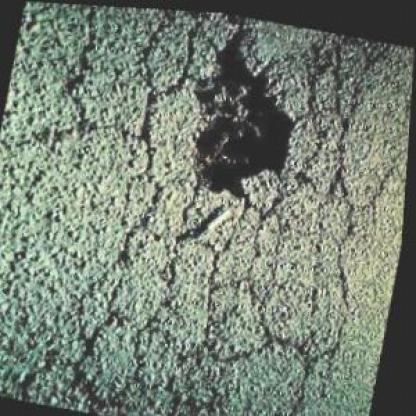pothole: (170, 16, 319, 206)
